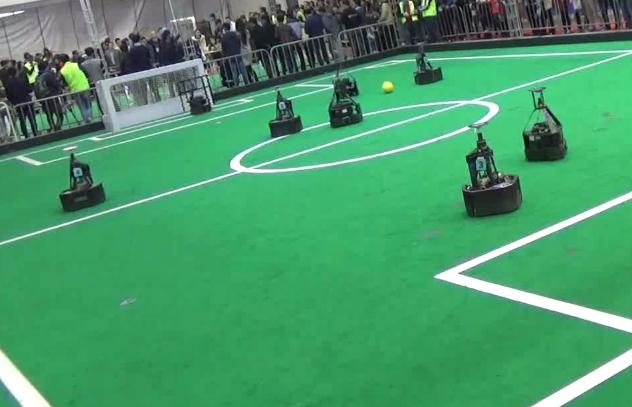robot: (448, 121, 527, 221), (515, 85, 577, 165), (54, 140, 109, 213), (316, 75, 373, 131), (257, 80, 309, 138)
